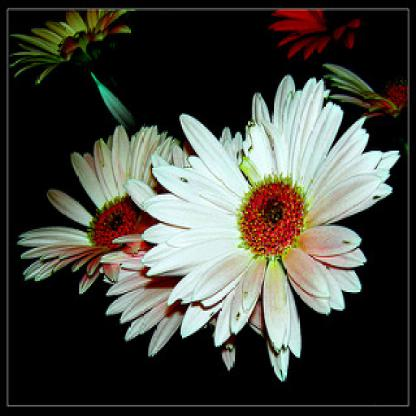ASTER: (19, 50, 408, 390)
